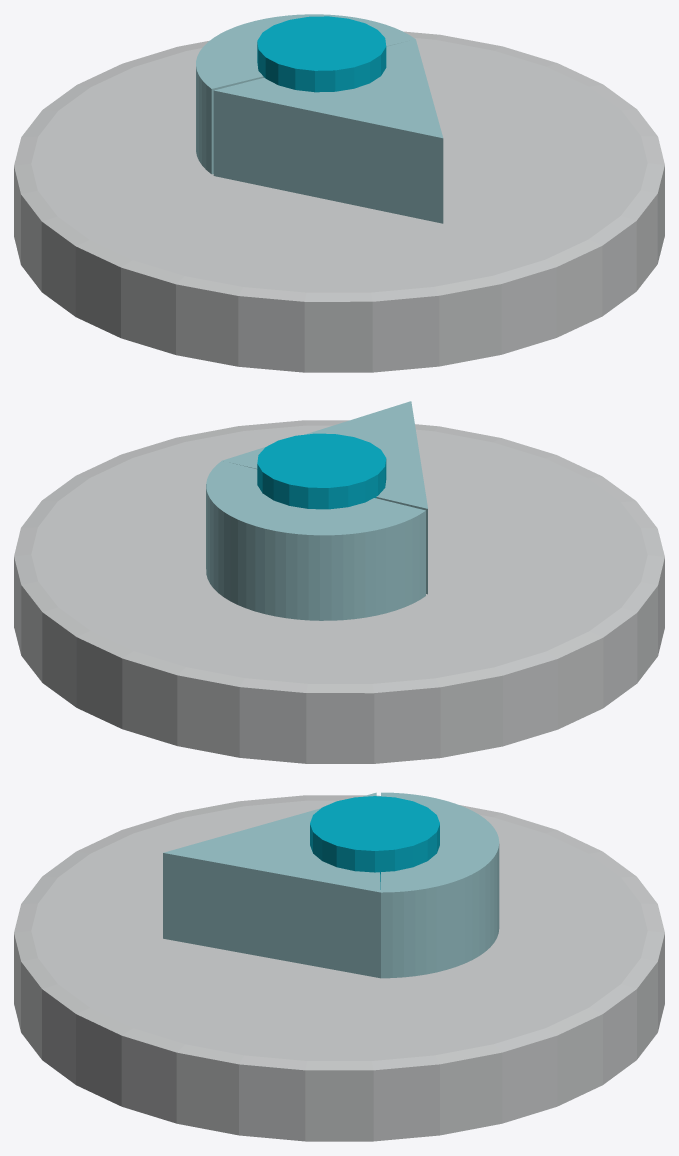
File: maps.glb
The picture shows the model from 3 angles, top to bottom: view 1: azimuth 30°, elevation 25°; view 2: azimuth 150°, elevation 25°; view 3: azimuth 270°, elevation 25°; orthographic projection.
Visible parts, largest first — view 1: Mesh_Mesh_head_geo.001_lambert2SG.001; view 2: Mesh_Mesh_head_geo.001_lambert2SG.001; view 3: Mesh_Mesh_head_geo.001_lambert2SG.001.
Part boxes in pixels (x1,y1,x2,y2): Mesh_Mesh_head_geo.001_lambert2SG.001: [14, 14, 664, 372]; Mesh_Mesh_head_geo.001_lambert2SG.001: [14, 401, 664, 763]; Mesh_Mesh_head_geo.001_lambert2SG.001: [14, 792, 664, 1141].
Size of the model in its own units: 55 by 17 by 55.
